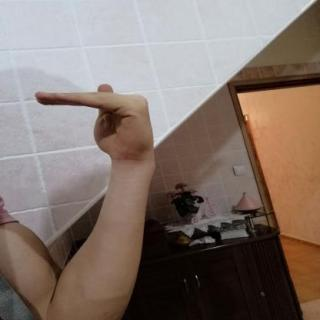KHAA: (25, 76, 167, 168)
